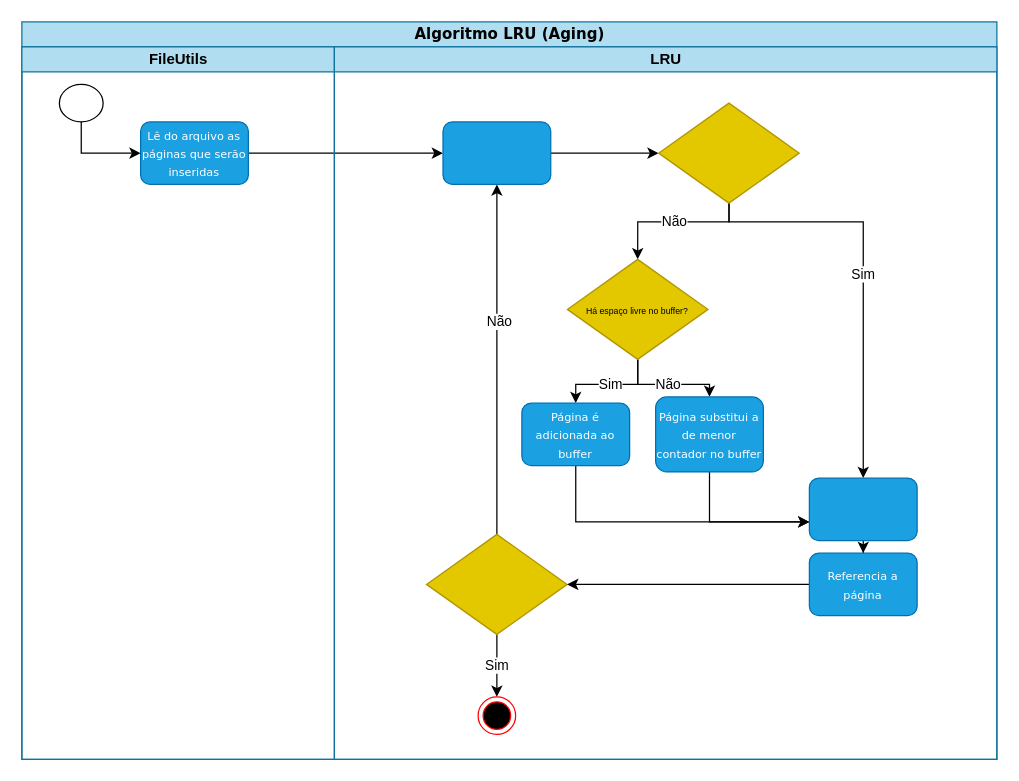
Image size: 1019x781. Some labels were removed from this diagram. The centre of each missing label's shape, as x and y in pixels:
"Atualiza os contadores" goes at (x=862, y=509).
"Insere próxima página" goes at (x=496, y=152).
"Página está no buffer?" goes at (x=728, y=152).
"Todas as páginas foram inseridas?" goes at (x=496, y=583).
